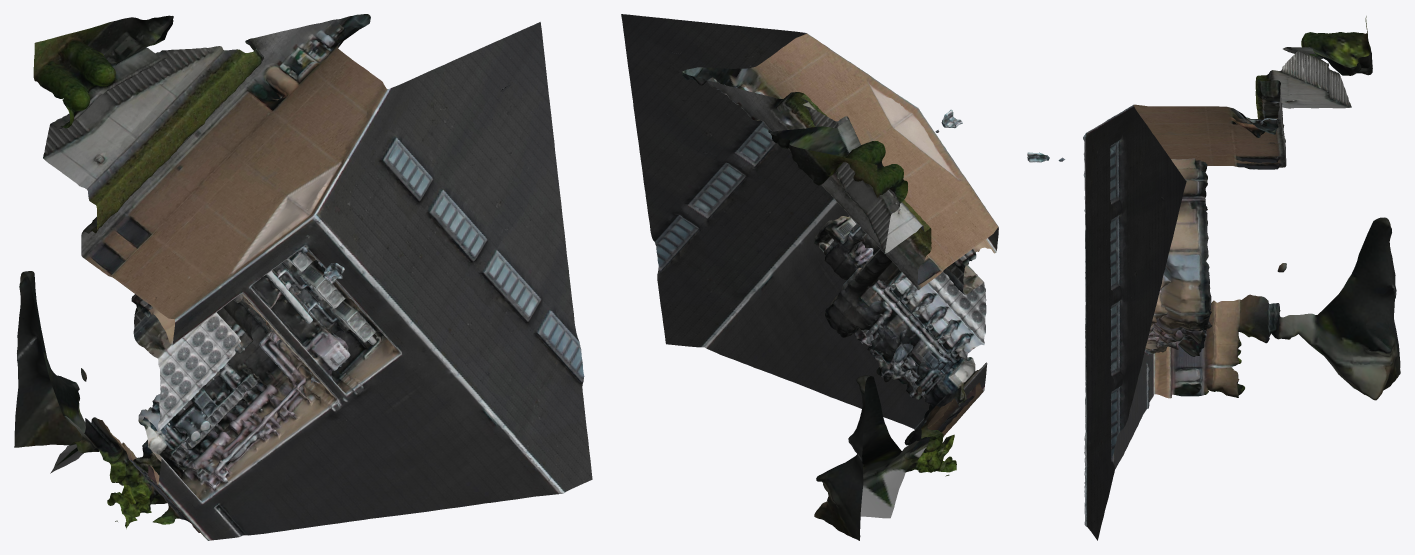
File: Tile_+012_+012.fbx
3 renders of one model, left to right at view 1: azimuth 30°, elevation 25°; view 2: azimuth 150°, elevation 25°; view 3: azimuth 270°, elevation 25°, orthographic. The views are drawn at different scales.
Visible parts, largest first — view 1: DefaultName; view 2: DefaultName; view 3: DefaultName.
Boxes of the visible parts, left/top/right/bottom form: DefaultName: left=14, top=14, right=592, bottom=540; DefaultName: left=621, top=14, right=998, bottom=540; DefaultName: left=1027, top=16, right=1400, bottom=540.
Bounding box in the file's own units: 22.54 × 22.54 × 21.22.
